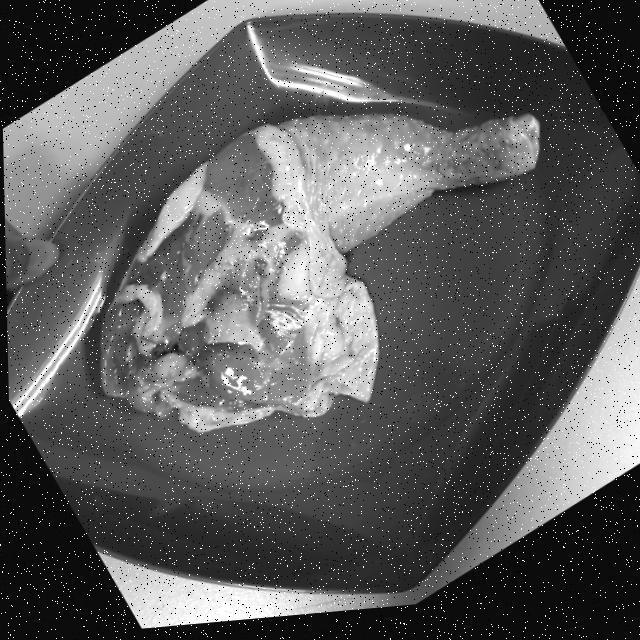quater: (106, 107, 540, 418)
